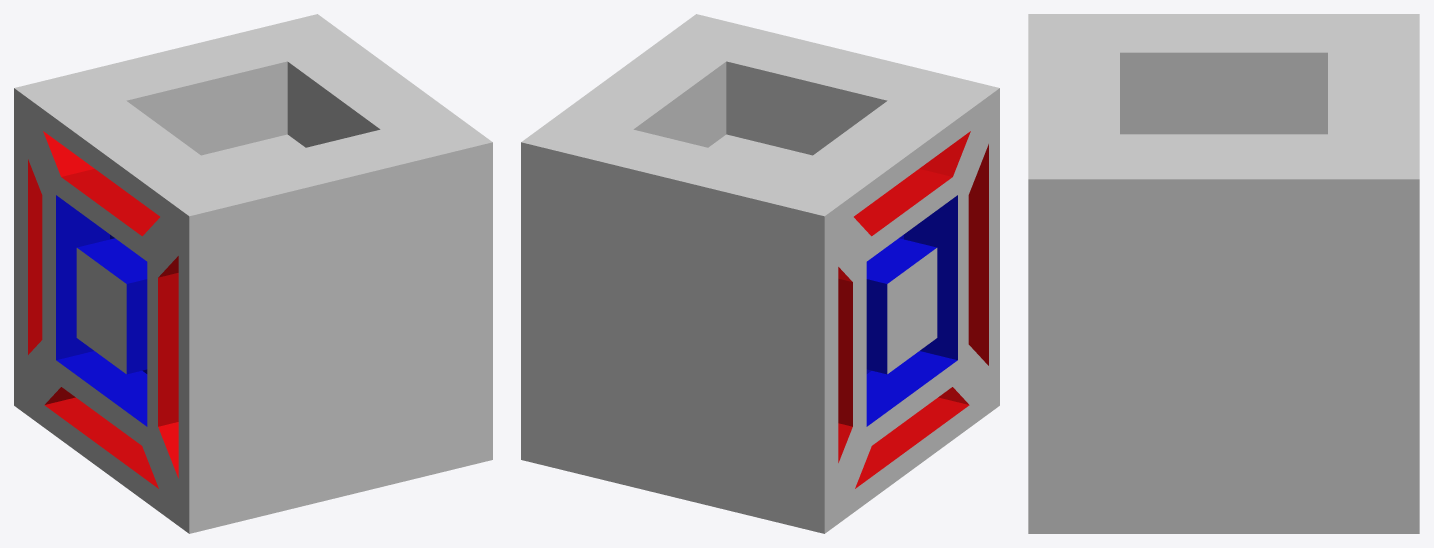
3 views of the same model, side by side, from view 1: azimuth 30°, elevation 25°; view 2: azimuth 150°, elevation 25°; view 3: azimuth 270°, elevation 25° (orthographic). The views are drawn at different scales.
Parts seen in each view (by area): view 1: Cube; view 2: Cube; view 3: Cube.
Boxes of the visible parts, x1,y1,x2,y2 form: Cube: (14,14,492,533); Cube: (521,14,999,533); Cube: (1028,14,1419,533).
Bounding box in the file's own units: 78.74 × 78.74 × 78.74.
